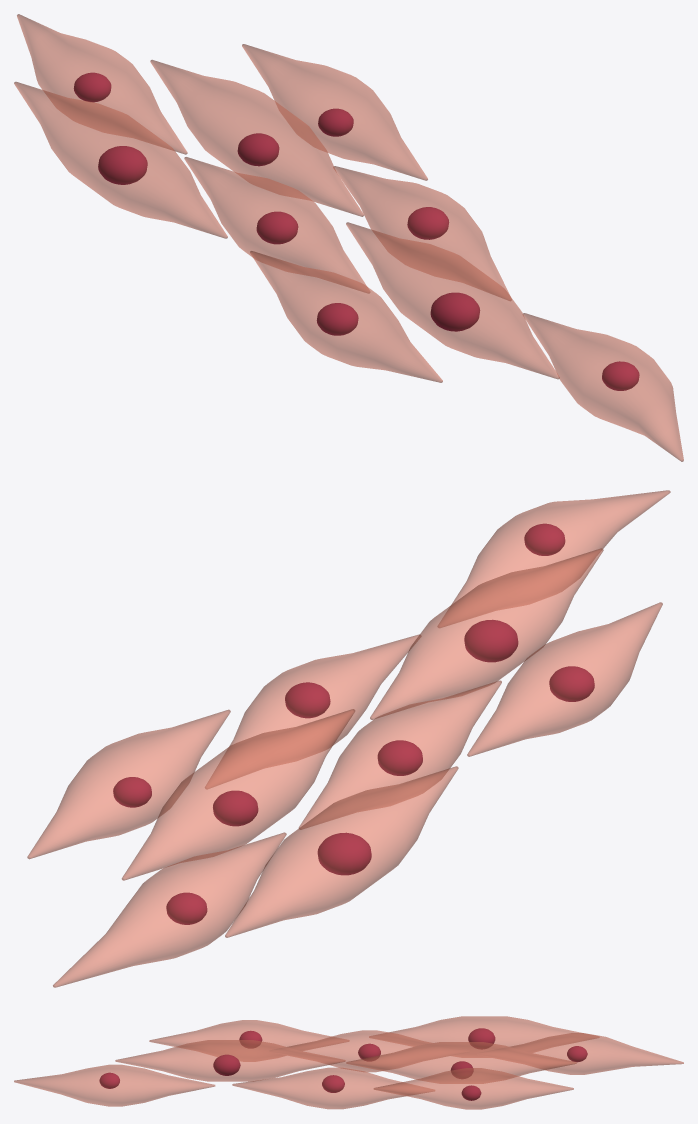
Rendered from smooth_muscle_cell.glb.
3 renders of one model, top to bottom at view 1: azimuth 30°, elevation 25°; view 2: azimuth 150°, elevation 25°; view 3: azimuth 270°, elevation 25°, orthographic. The views are drawn at different scales.
Parts seen in each view (by area): view 1: Nucleus.008_0; view 2: Nucleus.008_0; view 3: Nucleus.008_0.
Part boxes in pixels (x1,y1,x2,y2): Nucleus.008_0: [14, 14, 683, 461]; Nucleus.008_0: [27, 490, 670, 987]; Nucleus.008_0: [14, 1016, 683, 1109].
Size of the model in its own units: 2.42 by 0.7239 by 9.12.
